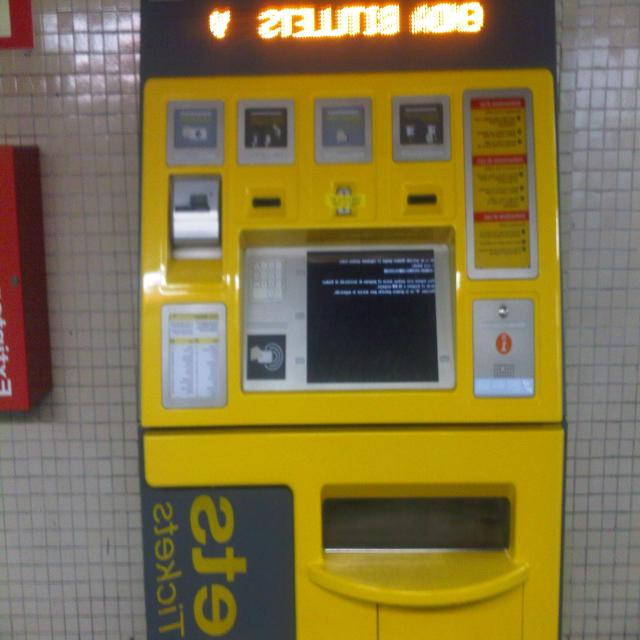tickets-maquina: (140, 0, 564, 638)
